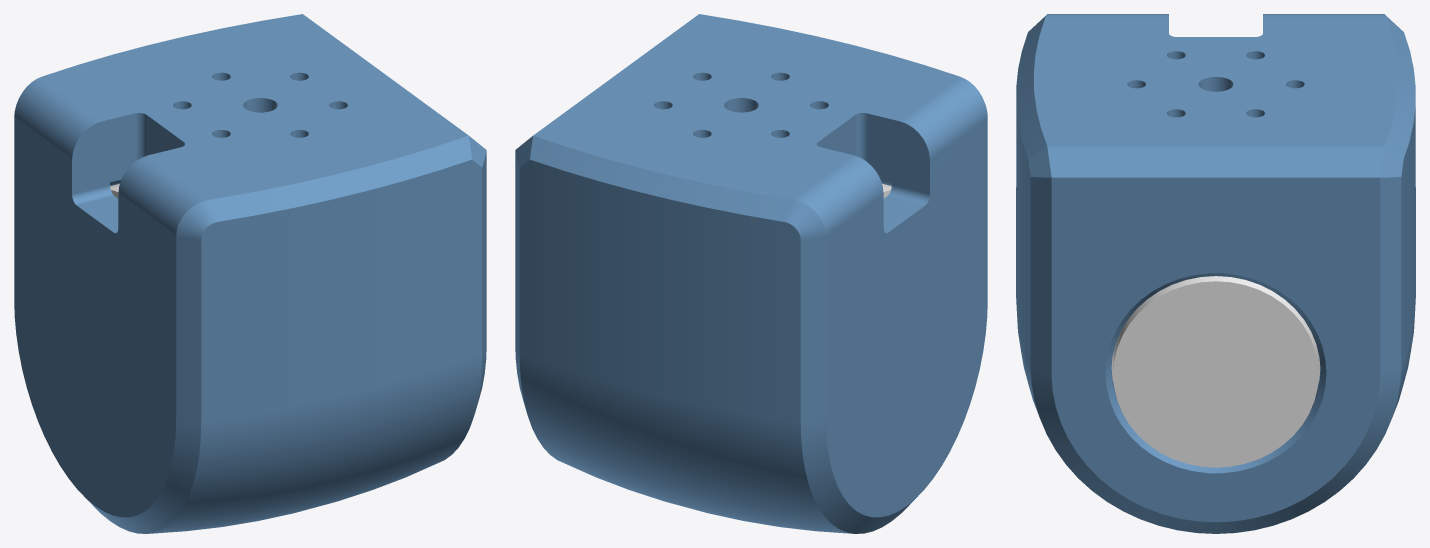
The model's file is 6dof.dae.
3 views of the same model, side by side, from view 1: azimuth 30°, elevation 25°; view 2: azimuth 150°, elevation 25°; view 3: azimuth 270°, elevation 25° (orthographic).
Visible parts, largest first — view 1: 6dof; view 2: 6dof; view 3: 6dof.
Part boxes in pixels (<box>): 6dof: <box>14,14,486,533</box>; 6dof: <box>515,14,987,533</box>; 6dof: <box>1016,14,1415,533</box>.
Bounding box in the file's own units: 0.0625 × 0.0681 × 0.0747.
